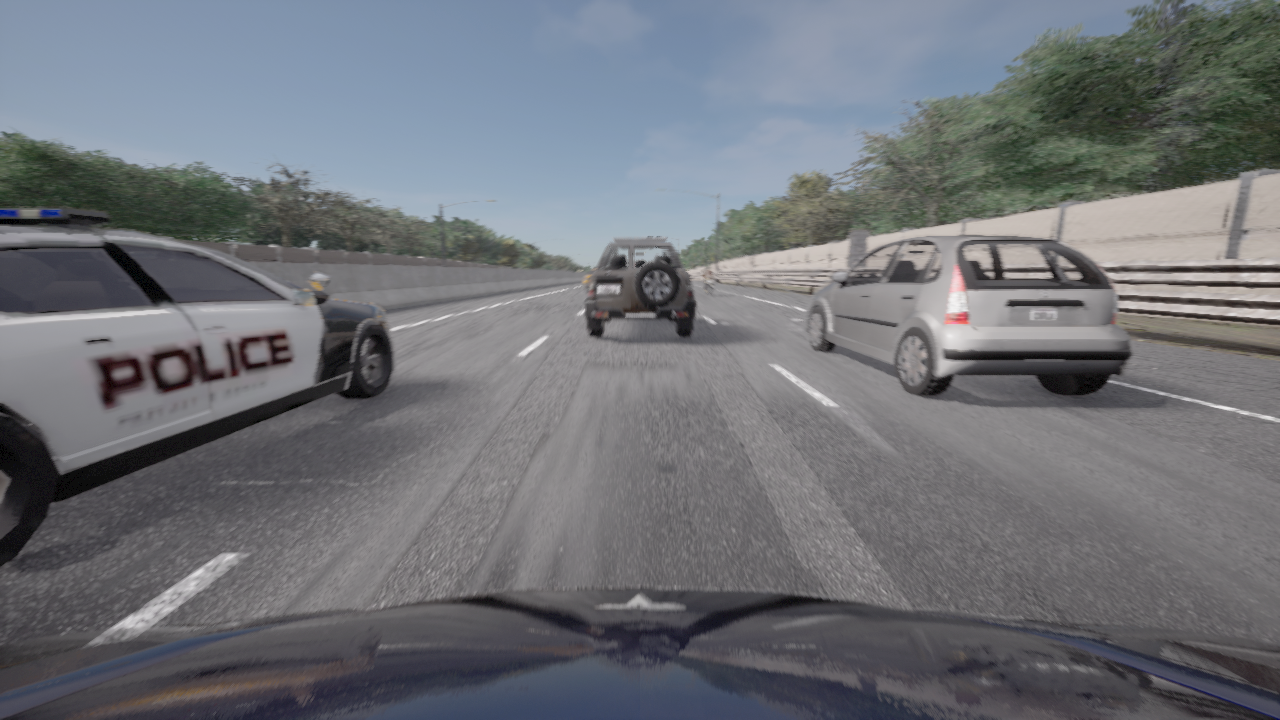cyclist: (0, 588, 1279, 719), (805, 234, 1131, 395), (585, 238, 695, 337), (699, 273, 713, 295), (584, 268, 595, 287)
